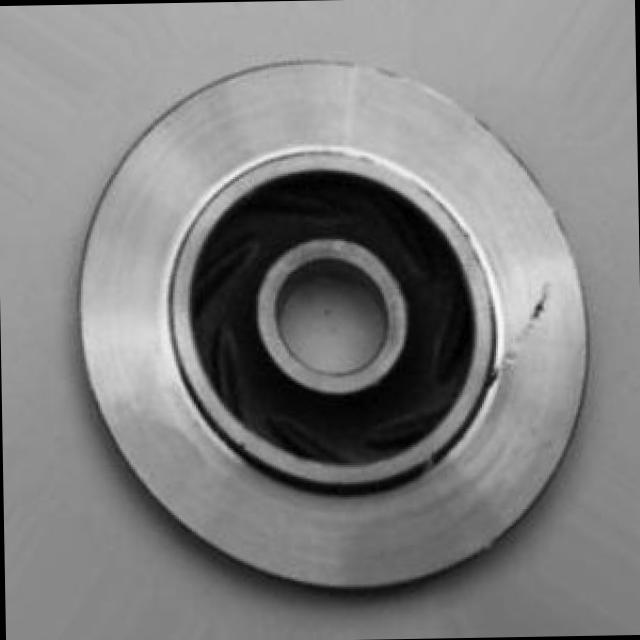Defect: (510, 278, 564, 343)
